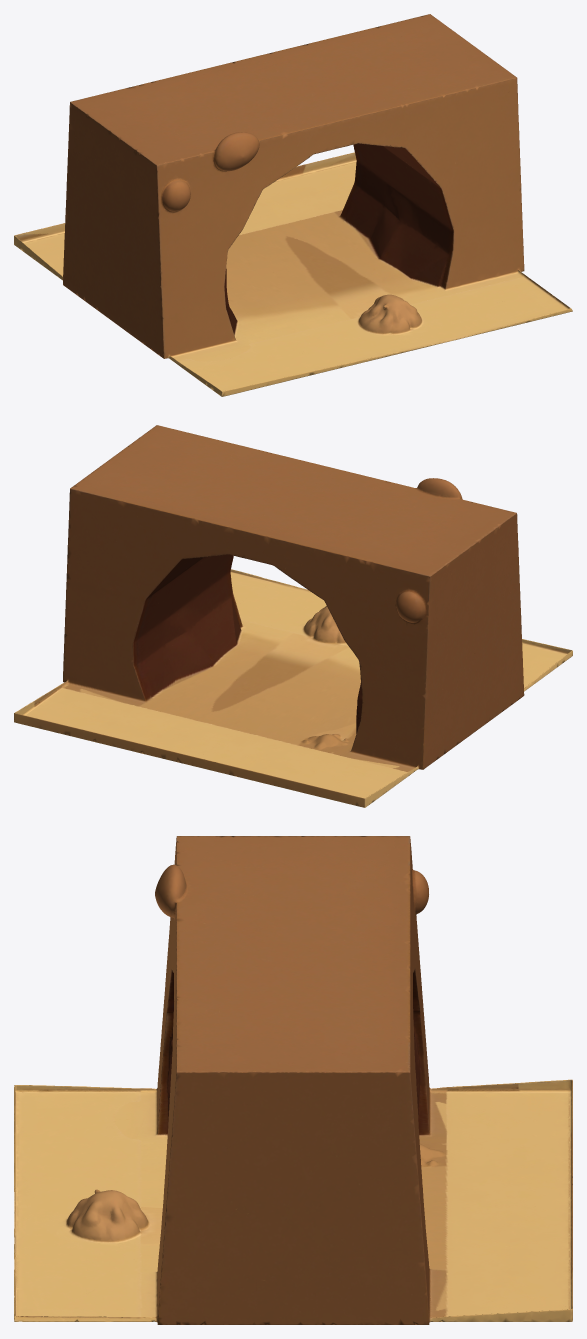
File: tatu_toca.glb
3 renders of one model, top to bottom at view 1: azimuth 30°, elevation 25°; view 2: azimuth 150°, elevation 25°; view 3: azimuth 270°, elevation 25°, orthographic. The views are drawn at different scales.
Bounding box in the file's own units: 1.9 × 1.02 × 1.9.
Materials: 1 (1 with a texture image).
